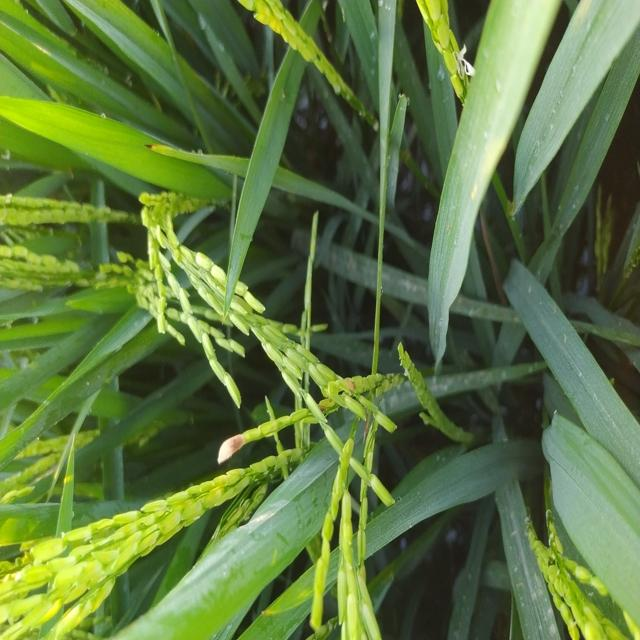Hawar Daun Bakteri: (141, 132, 172, 161)
